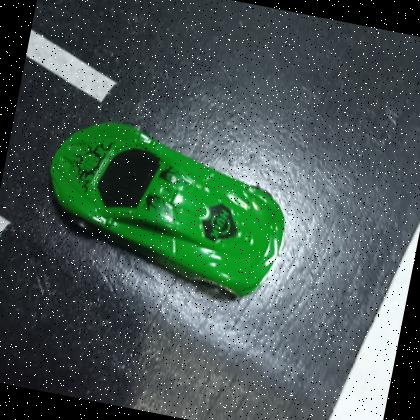Car: (48, 122, 285, 300)
